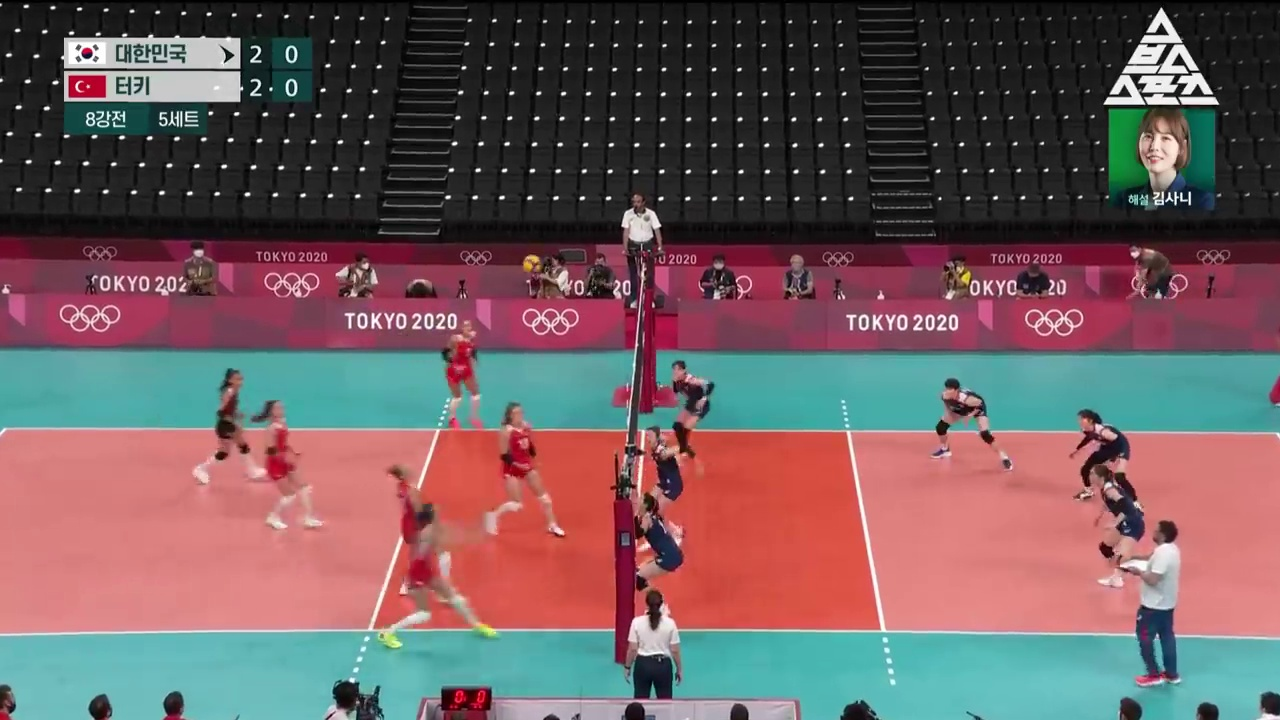ball: (524, 255, 543, 274)
player: (1090, 465, 1156, 589), (1069, 409, 1144, 517), (931, 378, 1014, 472), (634, 491, 684, 616), (638, 426, 684, 549), (673, 361, 715, 462)
player 1: (379, 504, 499, 646), (487, 404, 565, 537), (251, 399, 326, 532), (195, 368, 269, 486), (386, 465, 454, 593), (444, 319, 486, 430)
referee: (626, 589, 681, 701), (621, 192, 664, 307)
